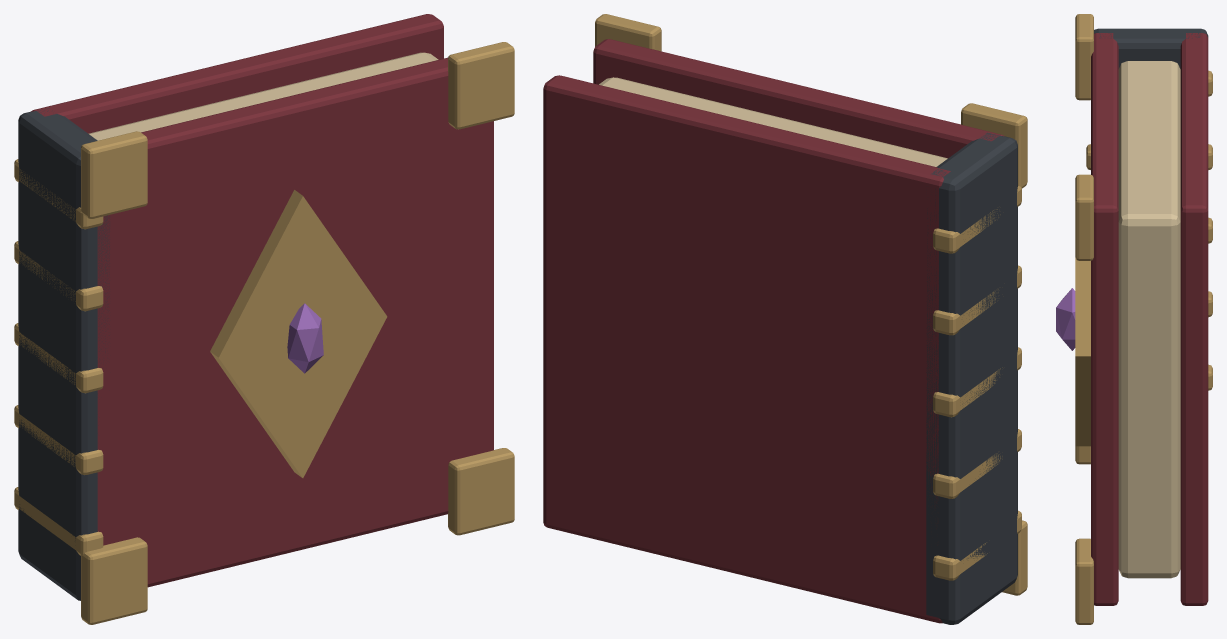
3 views of the same model, side by side, from view 1: azimuth 30°, elevation 25°; view 2: azimuth 150°, elevation 25°; view 3: azimuth 270°, elevation 25° (orthographic). The views are drawn at different scales.
Visible parts, largest first — view 1: TV-144 Iron Catechism; view 2: TV-144 Iron Catechism; view 3: TV-144 Iron Catechism.
Boxes of the visible parts, <box> form: TV-144 Iron Catechism: <box>14,14,514,624</box>; TV-144 Iron Catechism: <box>543,14,1027,624</box>; TV-144 Iron Catechism: <box>1056,14,1212,624</box>.
Bounding box in the file's own units: 0.2865 × 0.305 × 0.1016.
